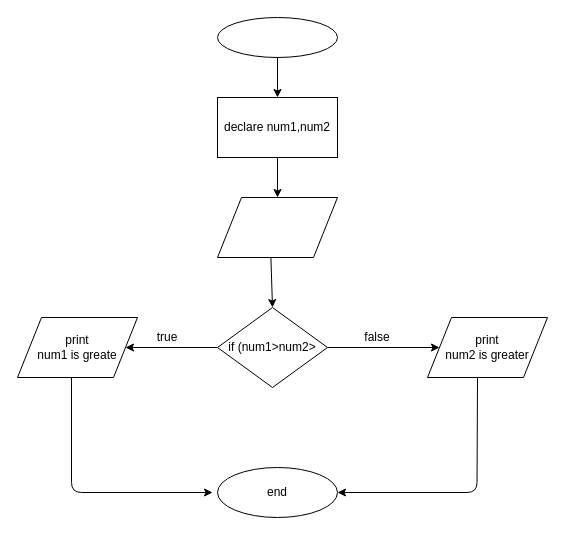
The diagram is 565 pixels wide and 535 high, and some of its shapes have lost their labels. The centre of each missing label's shape, as x and y in pixels:
read num1,num2: pixel 277 227
start: pixel 277 37
